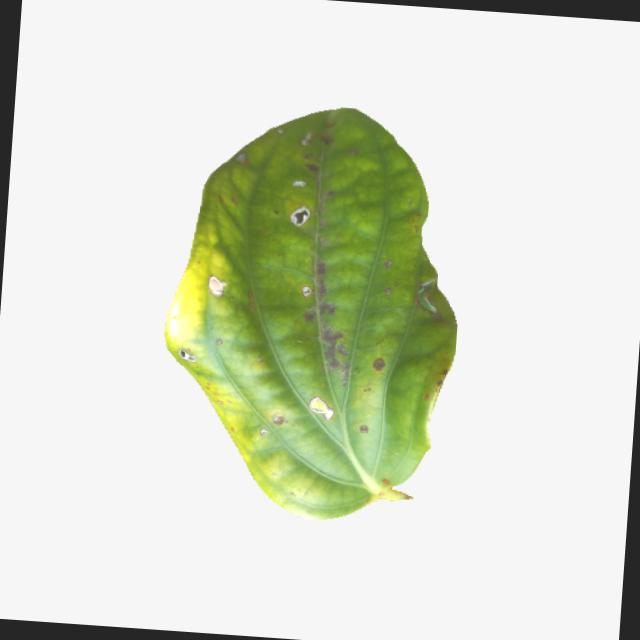yellow-mottle-virus: (122, 95, 486, 526)
